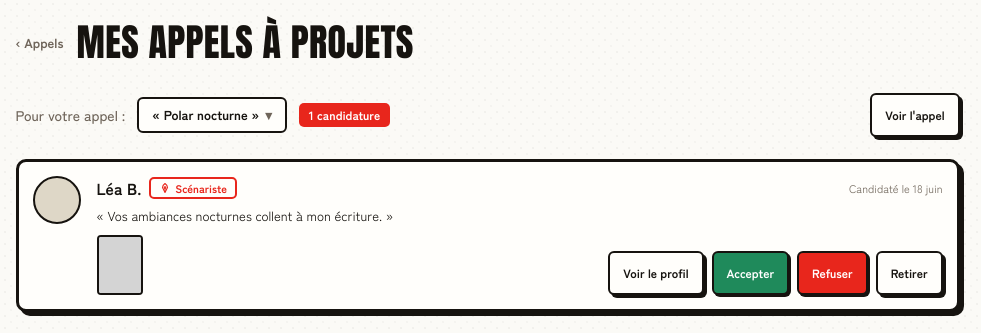
Scenario: CandidaturesRecuesClient (MC-7) › accepts a pending application: disables buttons, flips the badge, announces status
The image size is (981, 333).
Expected: the text "« Polar nocturne »" is shown, top-left (152, 105), bottom-right (259, 125)
Click the button with aria-label "Accepter la candidature de Léa B.".
click(750, 272)  # box top-left (712, 250), bottom-right (789, 294)
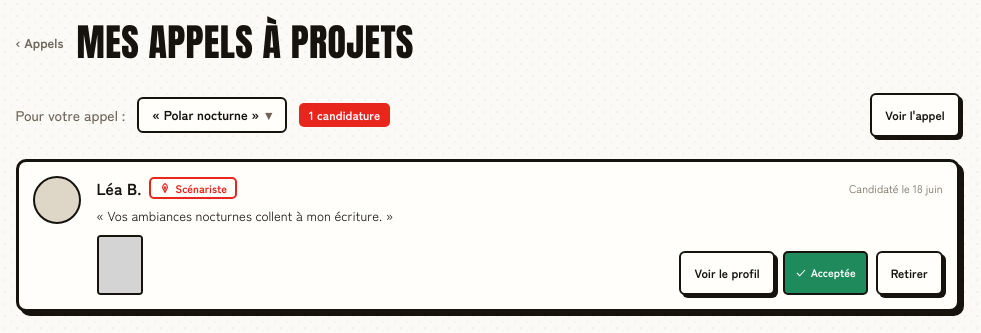
Expected: the text "Acceptée" is shown, top-left (783, 250), bottom-right (868, 294)
